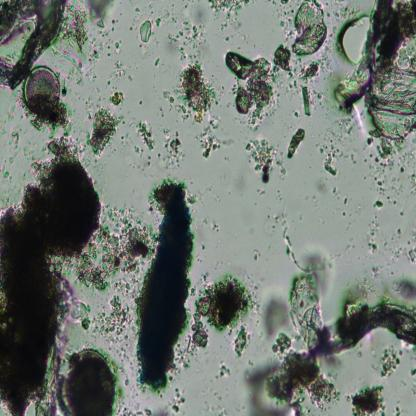Air bubble: (341, 13, 372, 68)
Background material: (0, 141, 100, 414), (337, 0, 416, 150), (60, 208, 152, 286), (265, 245, 332, 346), (247, 344, 341, 414), (188, 271, 254, 347), (223, 47, 278, 130), (71, 291, 136, 354), (164, 66, 219, 124), (59, 5, 104, 72), (273, 212, 310, 272), (166, 15, 211, 63), (290, 0, 327, 58), (368, 154, 414, 198), (89, 106, 124, 158), (245, 136, 281, 186), (146, 180, 194, 214), (196, 115, 230, 158), (348, 379, 386, 416), (364, 200, 384, 256), (318, 133, 342, 179), (132, 117, 158, 157), (374, 343, 400, 381), (82, 0, 114, 29), (274, 0, 296, 40), (272, 43, 296, 79), (206, 0, 254, 18), (163, 131, 186, 167), (300, 84, 324, 117), (231, 325, 252, 359), (389, 239, 416, 264), (391, 277, 416, 302), (286, 126, 304, 160), (297, 64, 324, 84), (169, 383, 185, 411), (108, 88, 126, 109), (138, 20, 153, 45), (110, 59, 126, 81), (9, 132, 20, 156), (217, 362, 230, 378), (0, 168, 13, 182), (252, 248, 261, 262), (114, 38, 122, 53), (154, 56, 161, 68), (409, 366, 416, 378), (342, 194, 348, 206), (155, 18, 162, 28)
Cellulose filter fibre: (310, 302, 416, 356), (0, 0, 65, 84)
Diatom: (61, 350, 117, 413), (23, 65, 61, 117)
Fragment: (136, 203, 193, 388)
